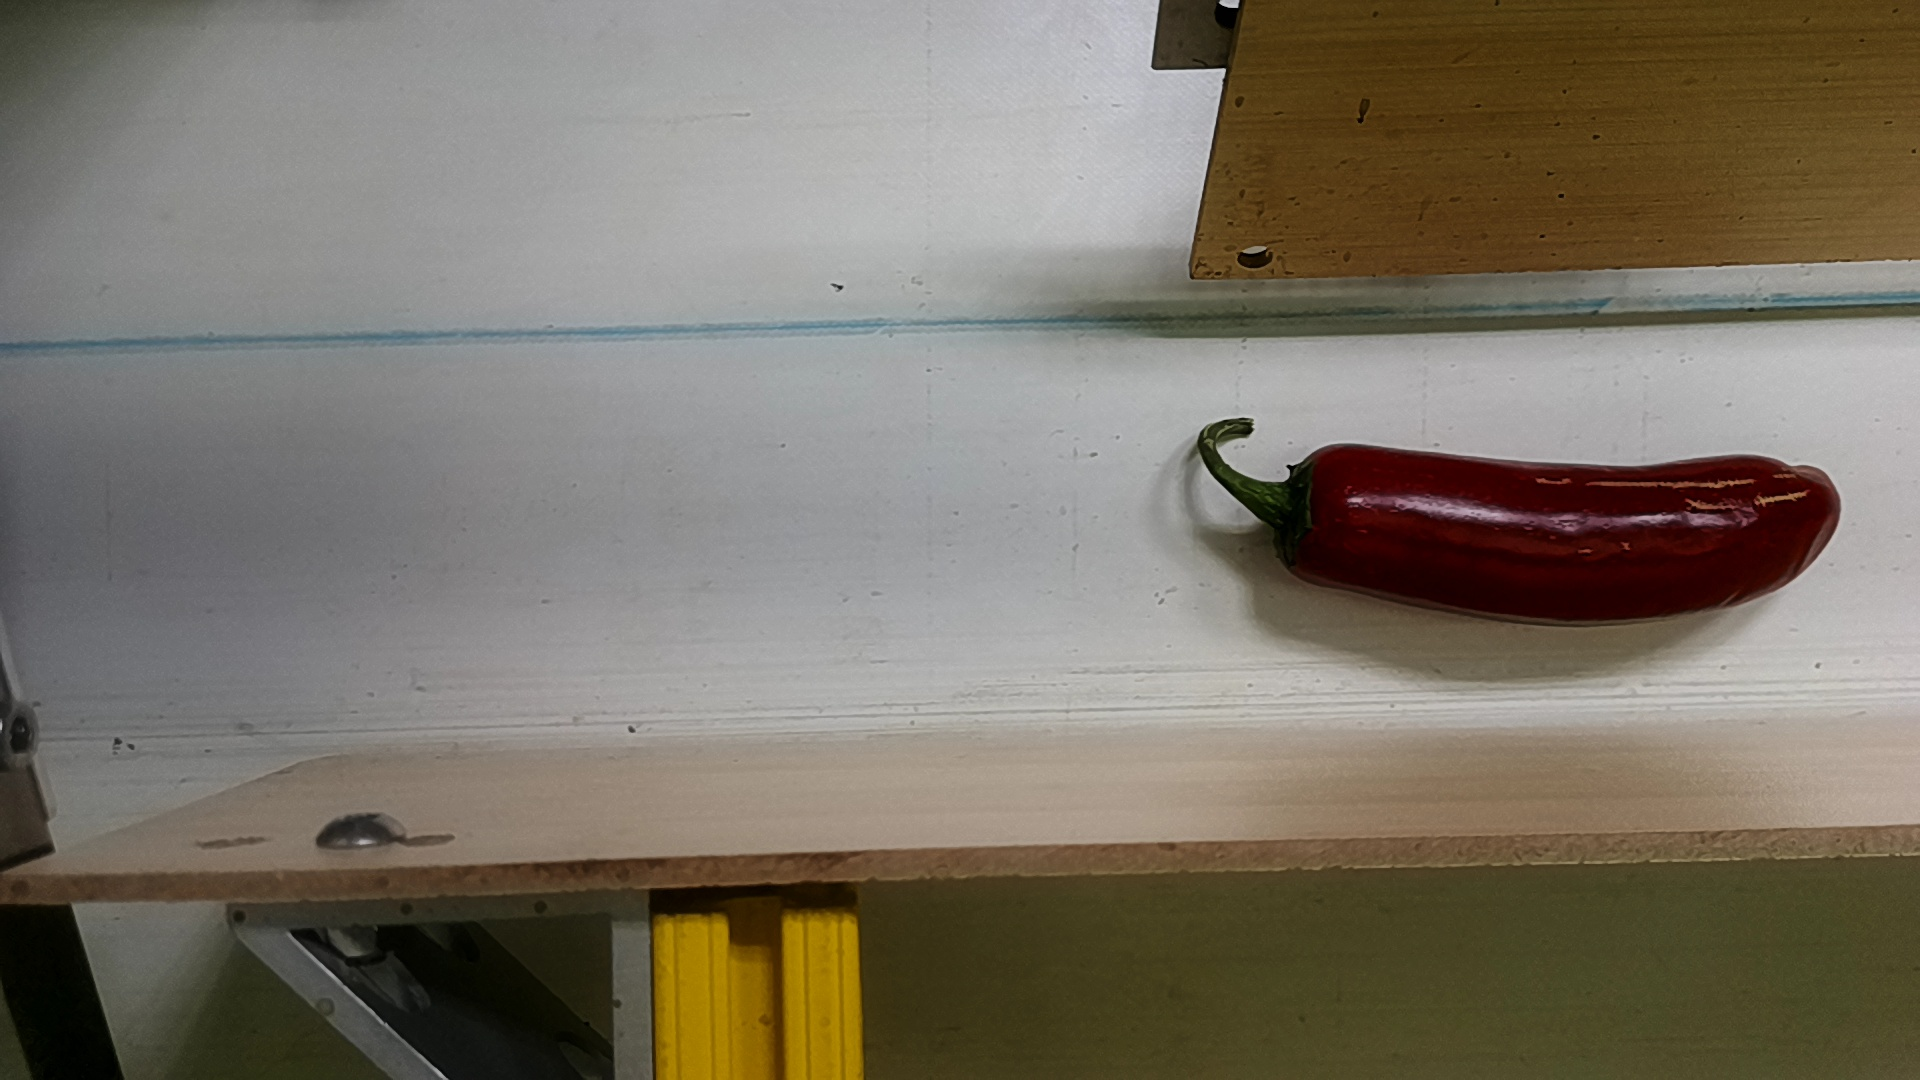Cut Point: (1270, 435, 1356, 593)
